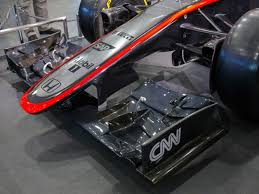f1_car: (2, 1, 259, 191)
